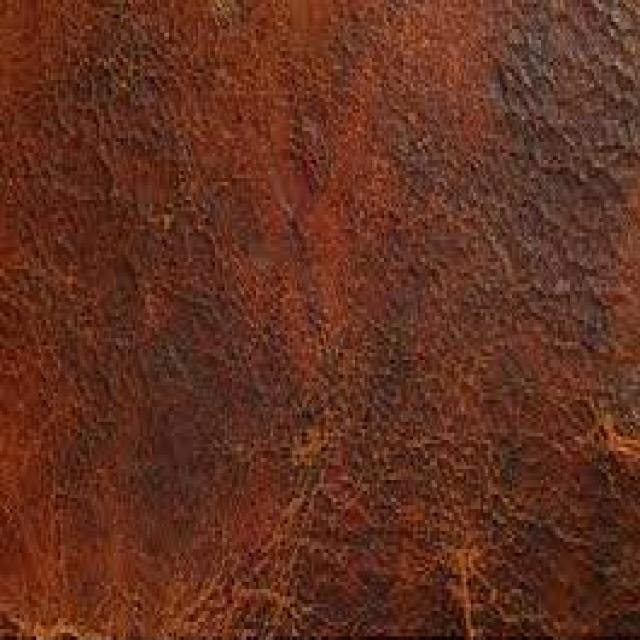Rotten surface: (397, 56, 609, 549), (57, 41, 240, 484)
